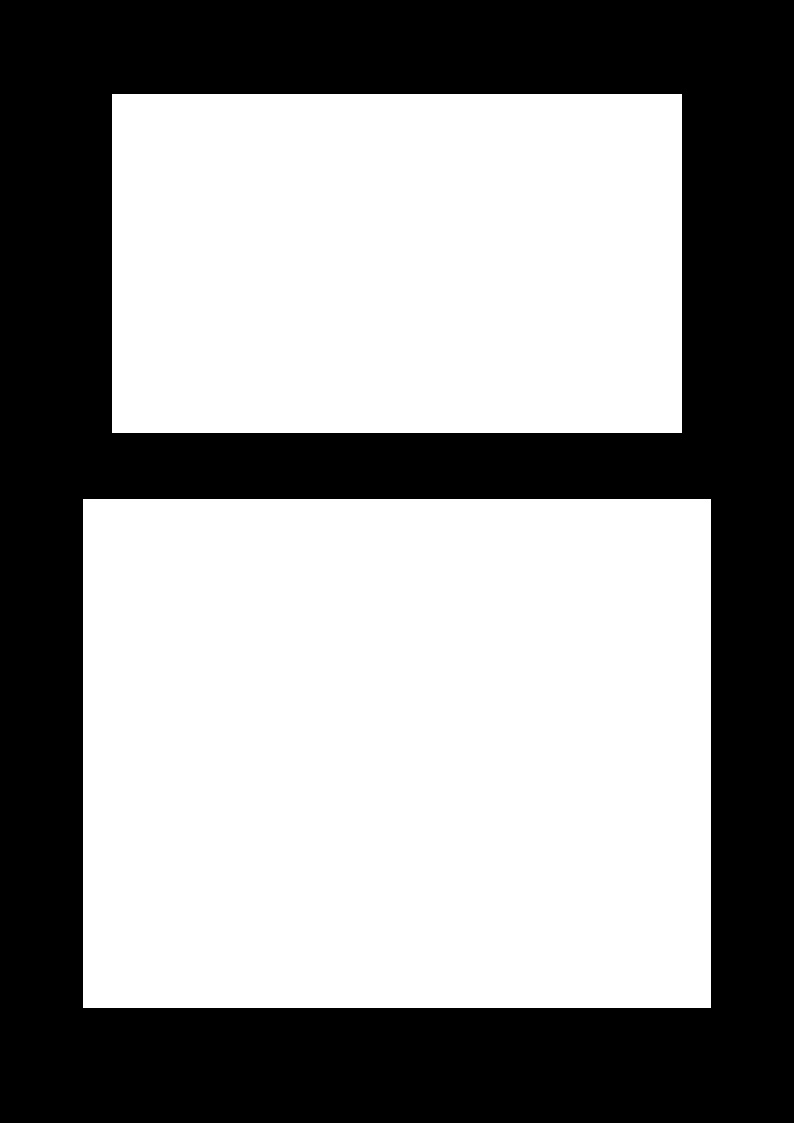table: (83, 499, 710, 1007), (112, 94, 681, 432)
